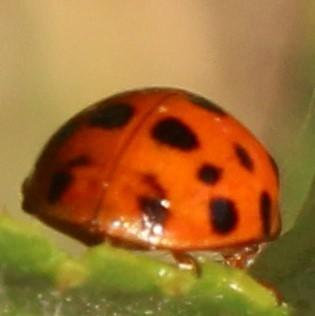ladybug: (19, 85, 288, 264)
